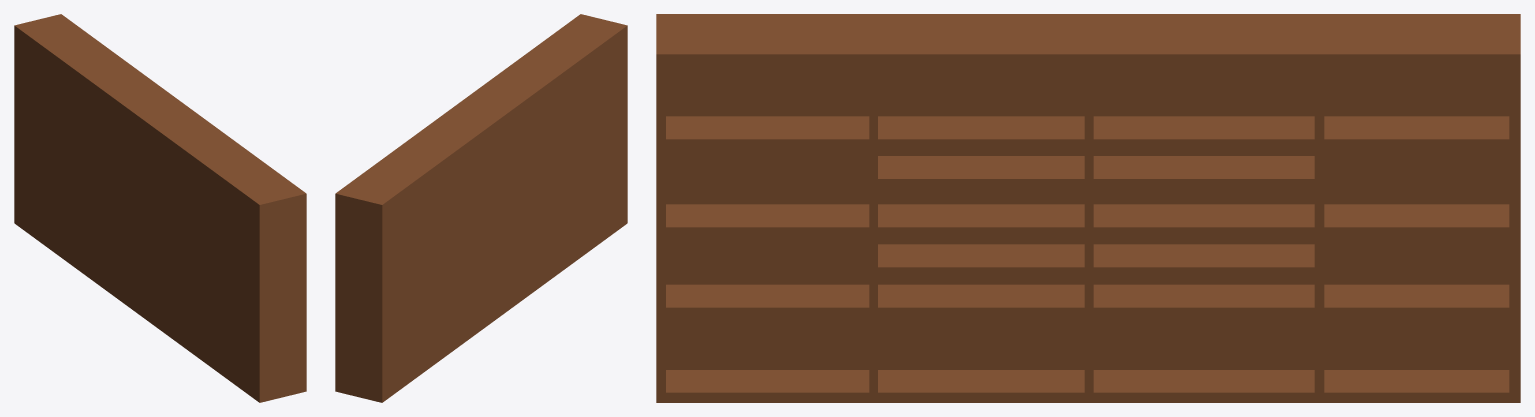
File: shelves.fbx
The picture shows the model from 3 angles, left to right: view 1: azimuth 30°, elevation 25°; view 2: azimuth 150°, elevation 25°; view 3: azimuth 270°, elevation 25°; orthographic projection. The views are drawn at different scales.
Parts seen in each view (by area): view 1: Cube; view 2: Cube; view 3: Cube.
Part boxes in pixels (x1,y1,x2,y2): Cube: [14, 14, 306, 402]; Cube: [335, 14, 627, 402]; Cube: [656, 14, 1520, 402].
Bounding box in the file's own units: 231 × 933 × 2097.
